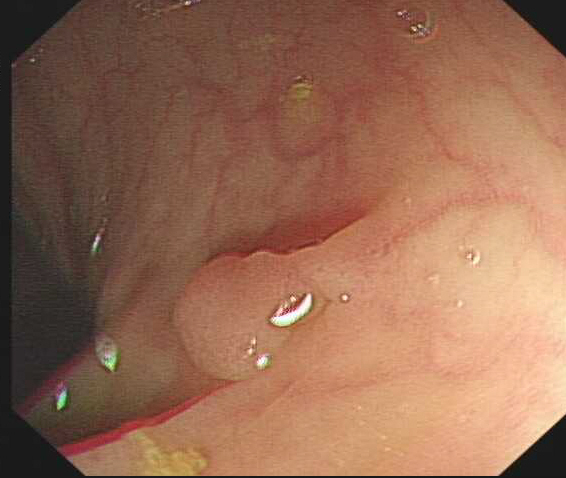adenoma: (169, 249, 318, 383)
